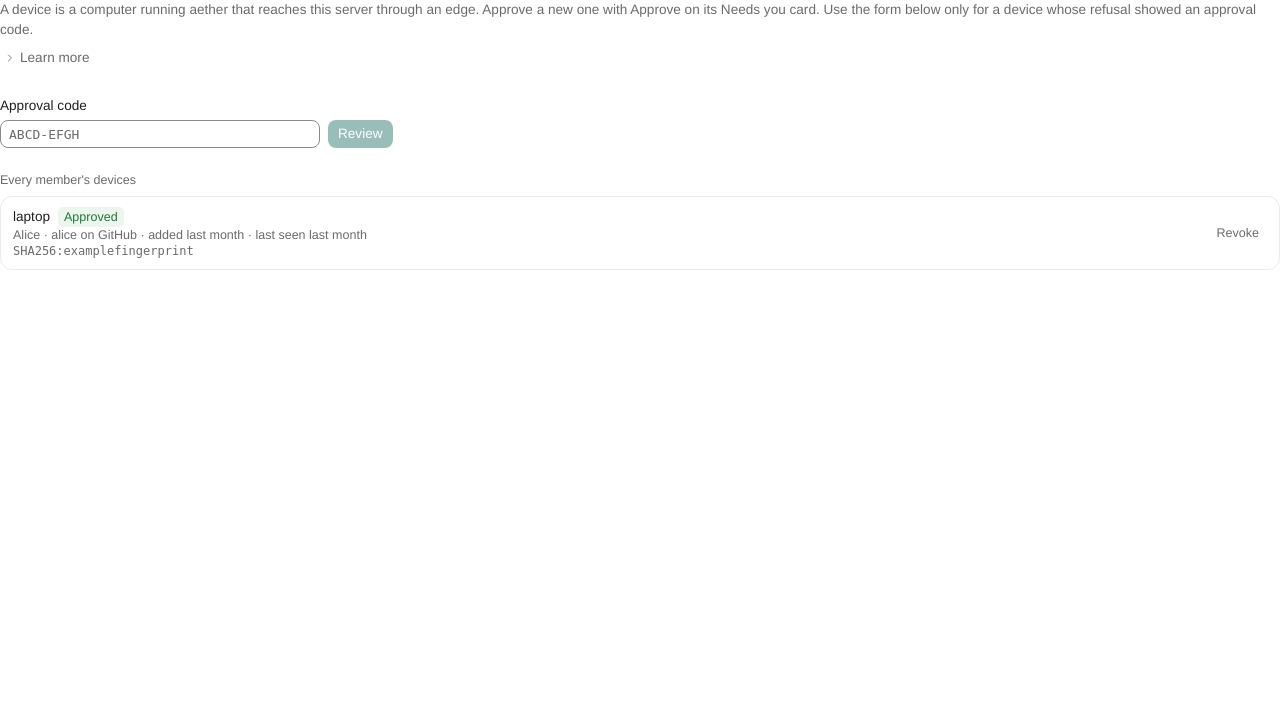
Scenario: devices tab › shows Revoking… on the confirm button while the server decides
What coordinates should you click on to do the following:
click the button named "Revoke laptop"
I would click on:
 (1238, 233)
Its box is [1208,221,1267,245].
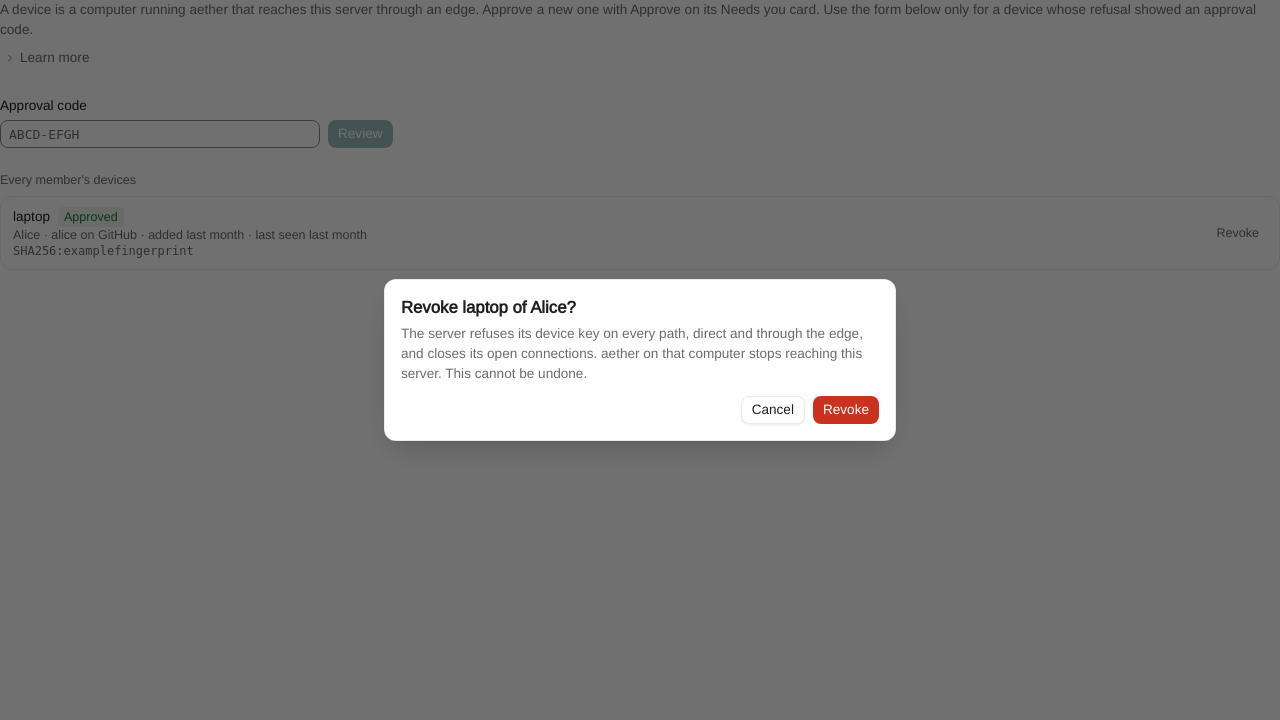
What coordinates should you click on to do the following:
click the 2nd button named "Revoke"
I would click on:
 (846, 410)
Its box is [813,396,879,424].
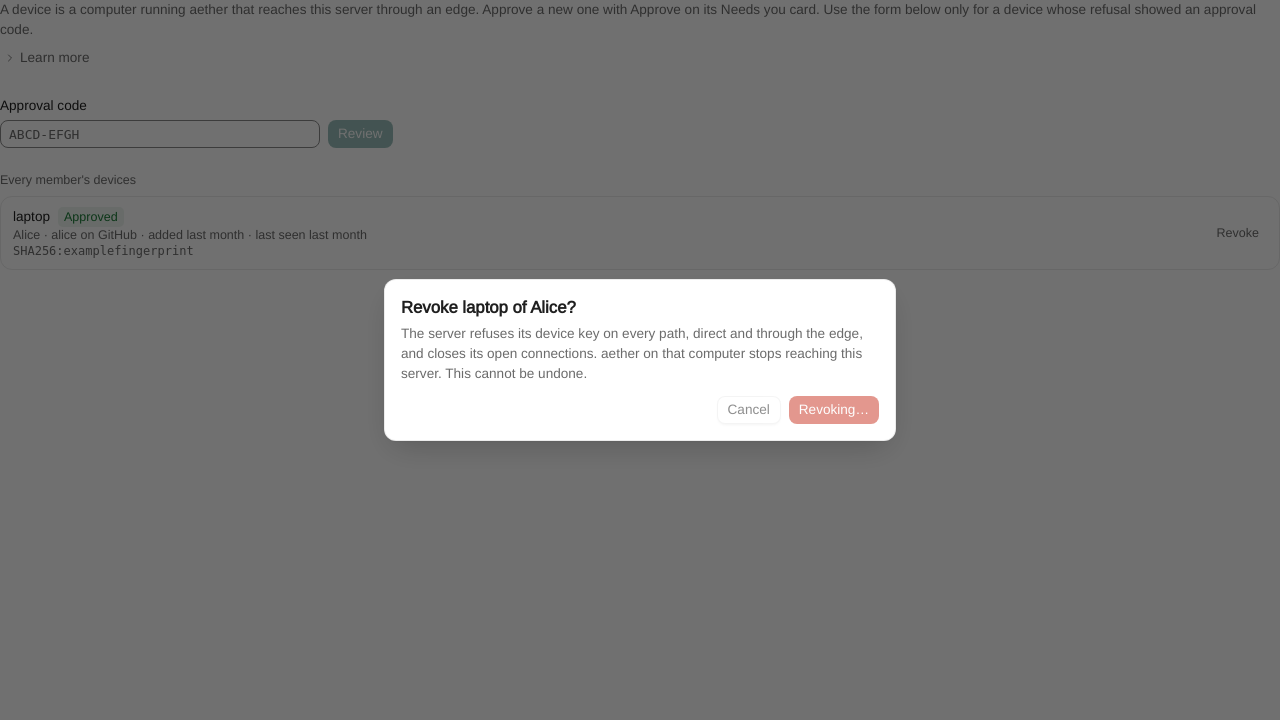
Result: the 2nd button named "Revoking…" is disabled at [789,396,879,424]
